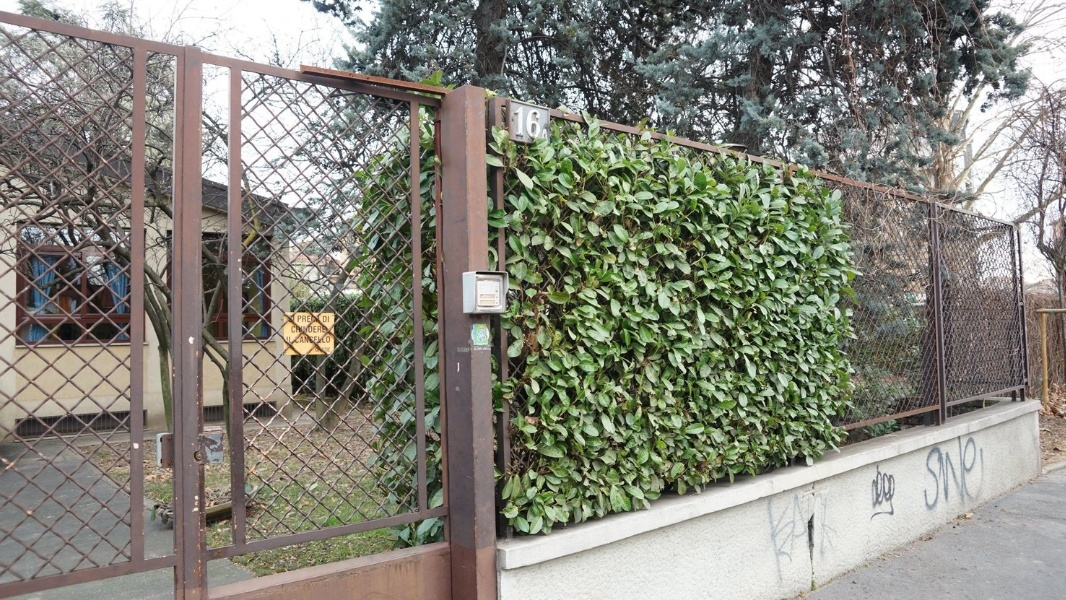text: (929, 435, 944, 509), (945, 435, 960, 509), (961, 435, 976, 509), (881, 468, 896, 520), (977, 435, 986, 509), (514, 106, 528, 141), (529, 106, 541, 141), (872, 468, 880, 520), (305, 336, 320, 344), (323, 316, 336, 323), (291, 326, 304, 333), (308, 326, 320, 333), (321, 336, 331, 344), (295, 336, 304, 344), (296, 325, 304, 333), (897, 468, 898, 520), (321, 348, 331, 353), (297, 316, 304, 323), (305, 316, 311, 323), (321, 326, 326, 333), (289, 337, 292, 344), (316, 348, 320, 353), (305, 325, 307, 333), (287, 337, 288, 344)
